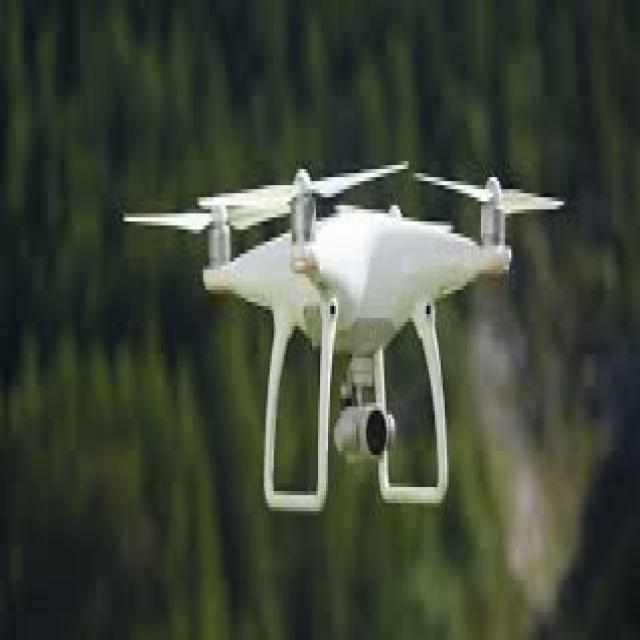drone: (131, 125, 557, 511)
